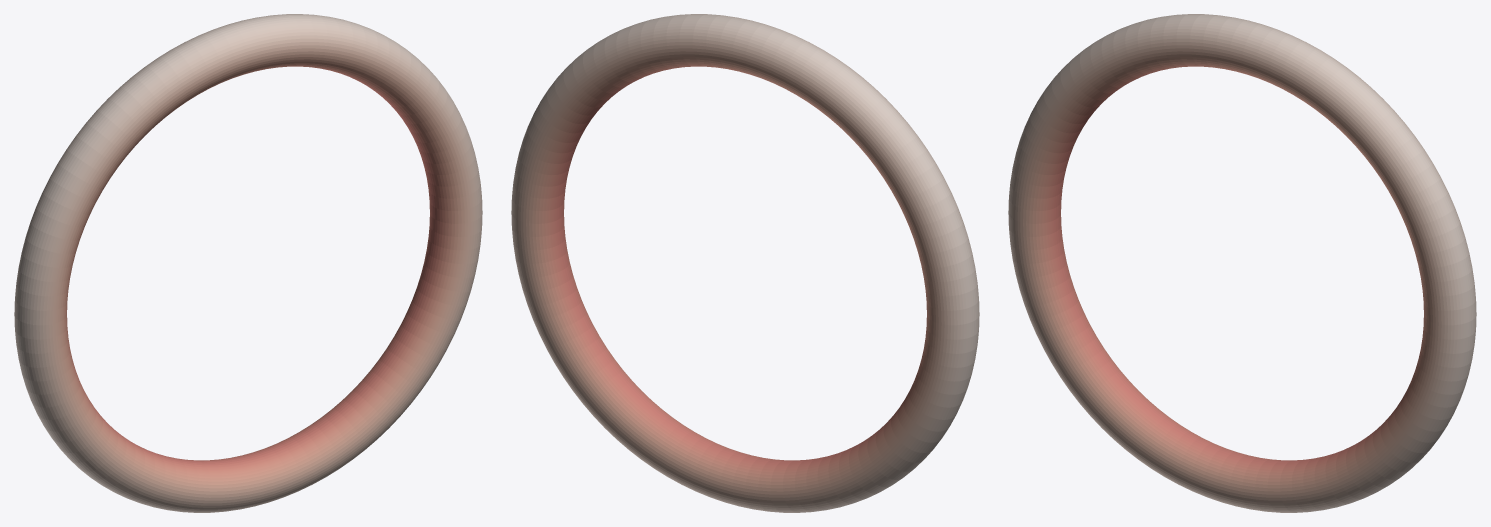
The picture shows the model from 3 angles, left to right: view 1: azimuth 30°, elevation 25°; view 2: azimuth 150°, elevation 25°; view 3: azimuth 330°, elevation 25°; orthographic projection.
Visible parts, largest first — view 1: world; view 2: world; view 3: world.
Part boxes in pixels (x1=…): world: x1=14, y1=14, x2=482, y2=512; world: x1=511, y1=14, x2=979, y2=512; world: x1=1008, y1=14, x2=1476, y2=512.
Size of the model in its own units: 22.93 by 22.93 by 2.26.
